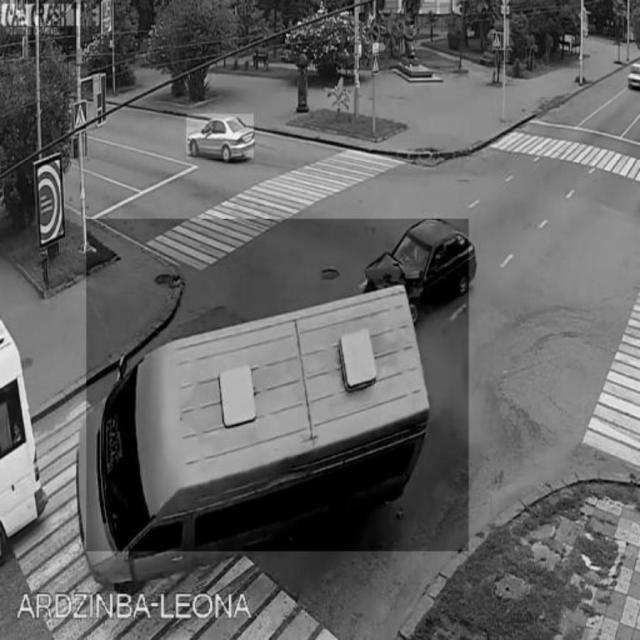accident: (87, 220, 469, 552)
vehicle: (186, 114, 253, 159)
